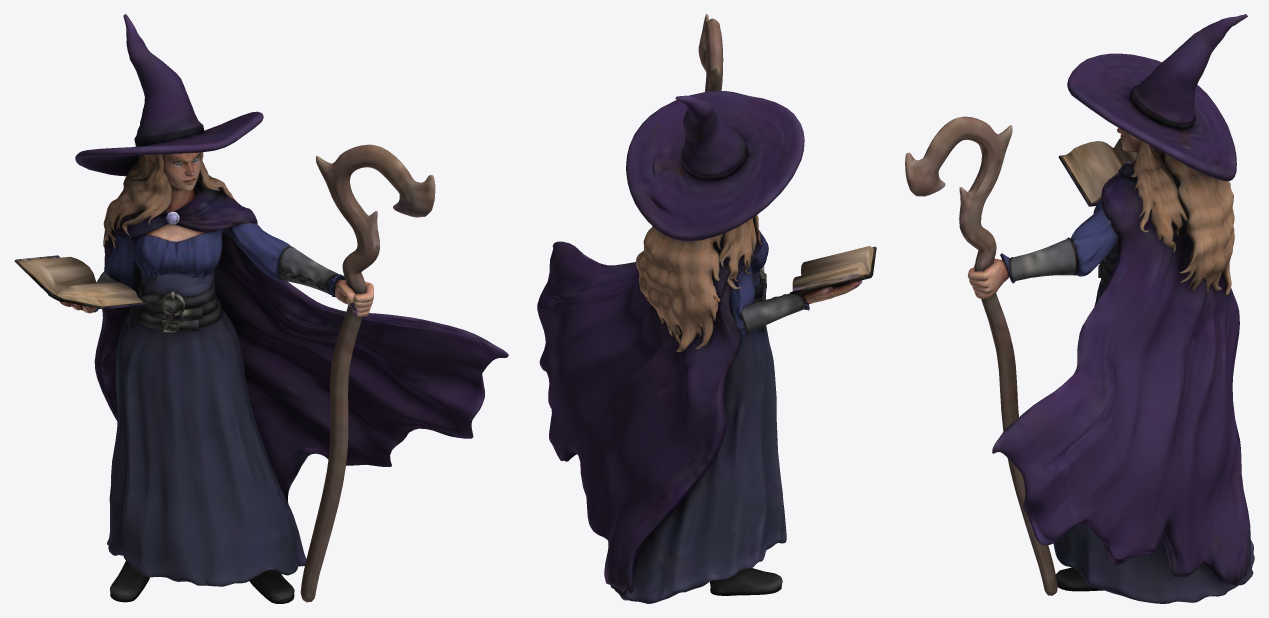
File: MZ4250 - Elf Wizard Female_1 2025.glb
3 renders of one model, left to right at view 1: azimuth 30°, elevation 25°; view 2: azimuth 150°, elevation 25°; view 3: azimuth 270°, elevation 25°, orthographic. The views are drawn at different scales.
Parts seen in each view (by area): view 1: Body.002; view 2: Body.002; view 3: Body.002.
Boxes of the visible parts, x1,y1,x2,y2 form: Body.002: (14, 14, 508, 603); Body.002: (537, 14, 876, 603); Body.002: (905, 14, 1254, 603).
Size of the model in its own units: 84.65 by 107 by 62.69.
2 materials, 2 textured.
